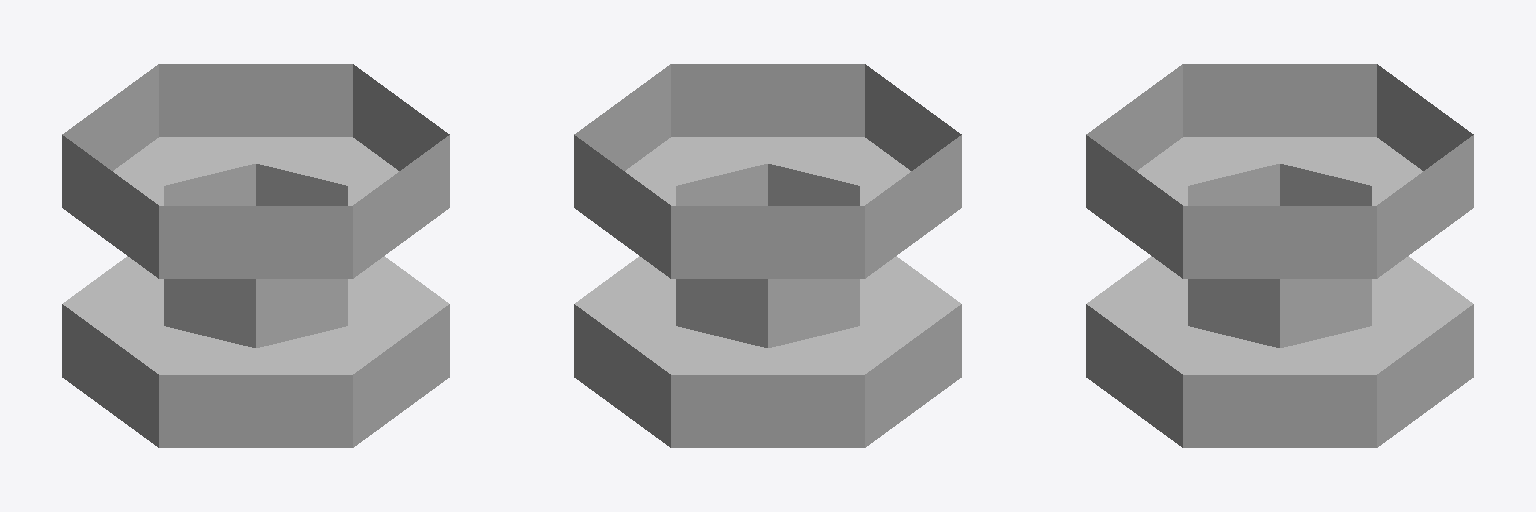
Rendered from platform_1.obj.
3 renders of one model, left to right at view 1: azimuth 30°, elevation 25°; view 2: azimuth 150°, elevation 25°; view 3: azimuth 270°, elevation 25°, orthographic.
Size of the model in its own units: 0.0095 by 0.0076 by 0.011.